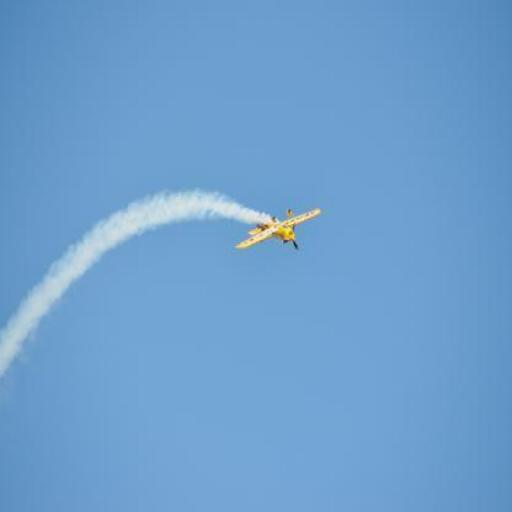aircraft: (235, 207, 322, 250)
